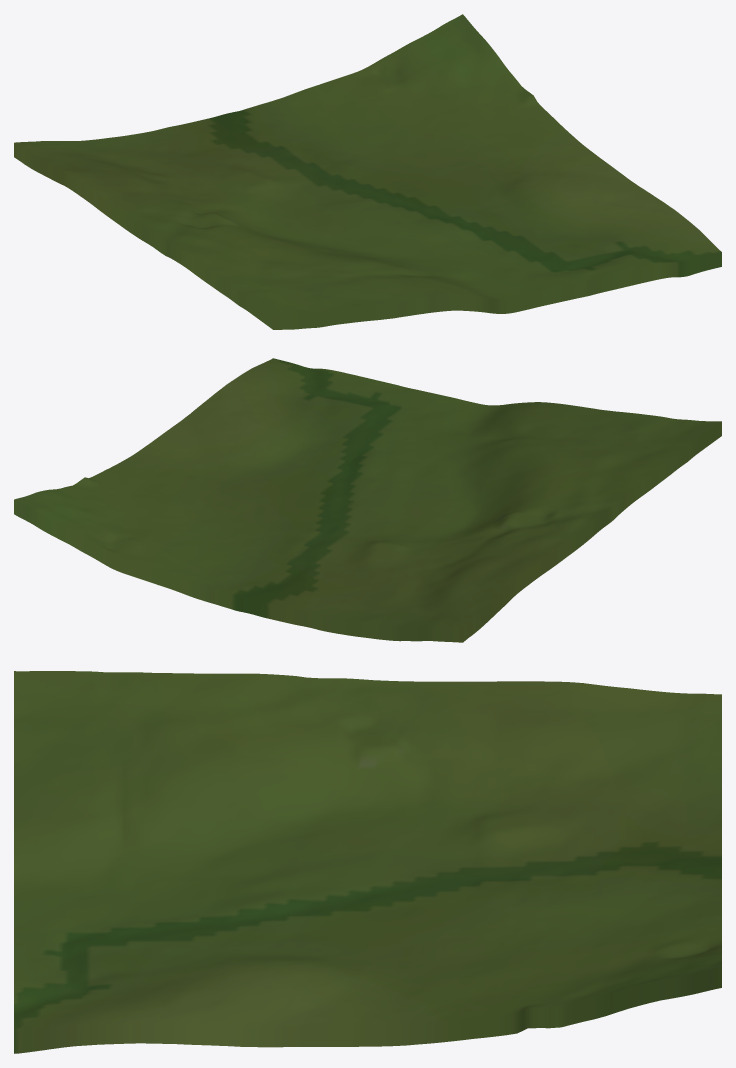
File: terrain_9_-13.glb
3 views of the same model, one above another, from view 1: azimuth 30°, elevation 25°; view 2: azimuth 150°, elevation 25°; view 3: azimuth 270°, elevation 25° (orthographic). The views are drawn at different scales.
Parts seen in each view (by area): view 1: terrain_9_-13; view 2: terrain_9_-13; view 3: terrain_9_-13.
Part boxes in pixels (<box>): terrain_9_-13: <box>14,14,721,329</box>; terrain_9_-13: <box>14,358,721,642</box>; terrain_9_-13: <box>14,671,721,1053</box>.
Bounding box in the file's own units: 256 × 34.9 × 256.
